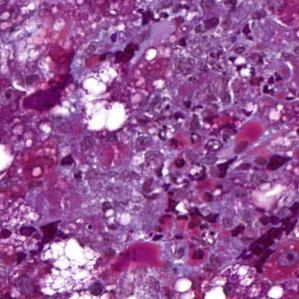ballooning: (77, 67, 132, 134), (39, 238, 100, 298)
